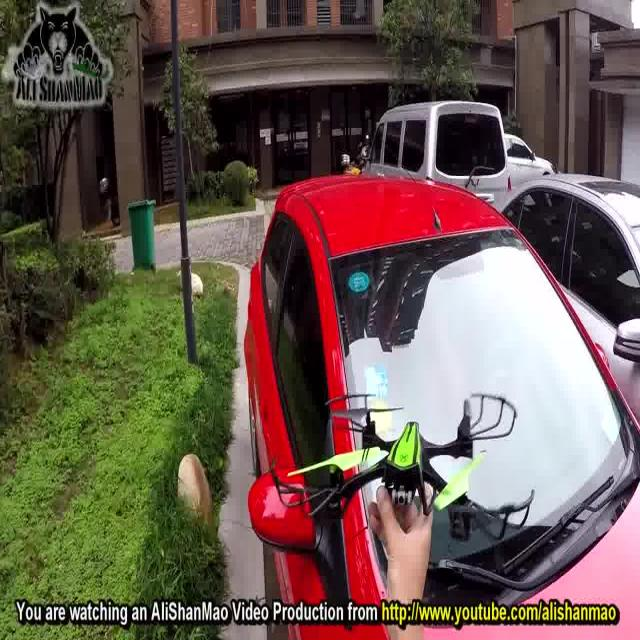drones: (264, 377, 538, 550)
